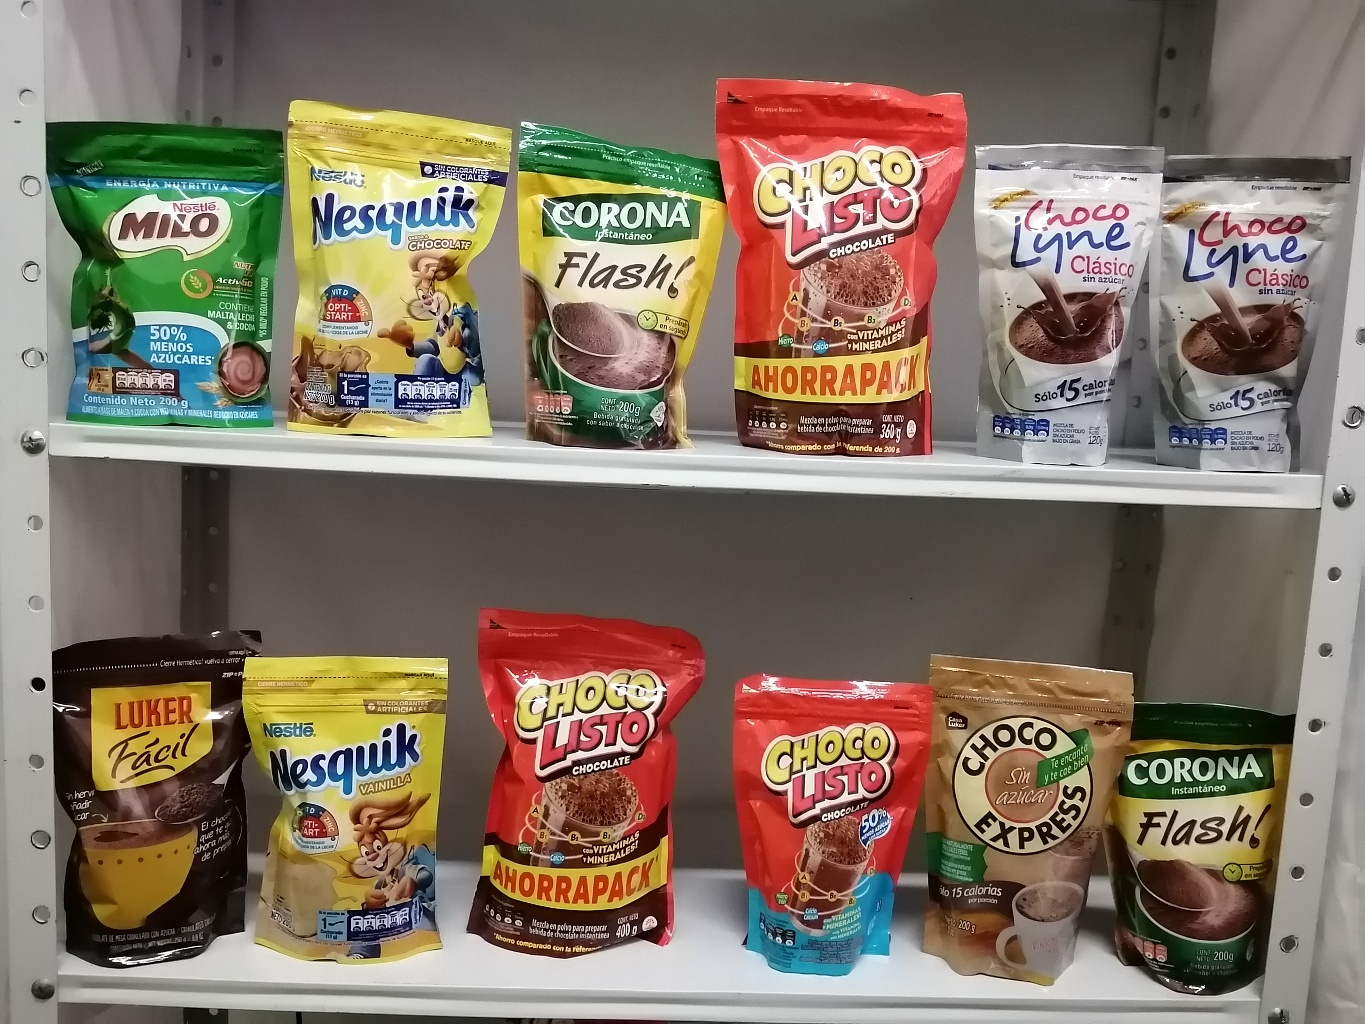COL0170103DYP36000: (696, 69, 973, 475)
COL0170103DYP40000: (459, 601, 725, 978)
COL0170104DYP20000: (714, 656, 942, 990)
COL0170205DYP20000: (24, 106, 305, 437)
COL0170303DYP20000: (498, 113, 730, 470)
COL0170306DYP20000: (234, 646, 465, 965)
